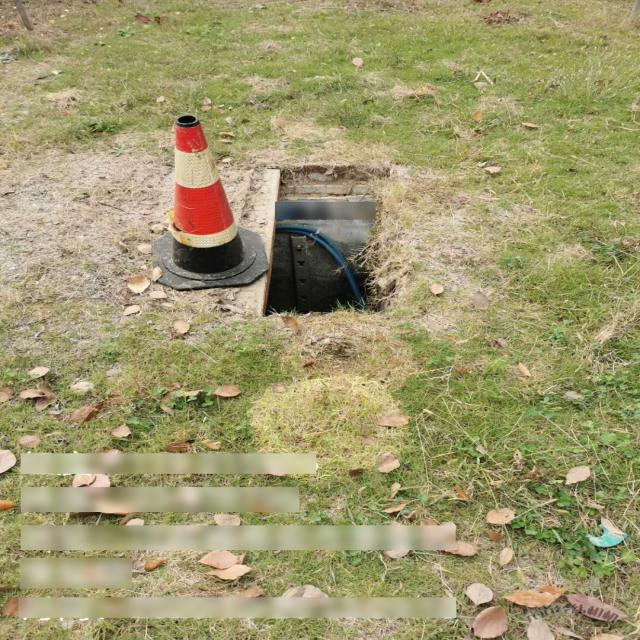Uncovered: (255, 161, 390, 317)
